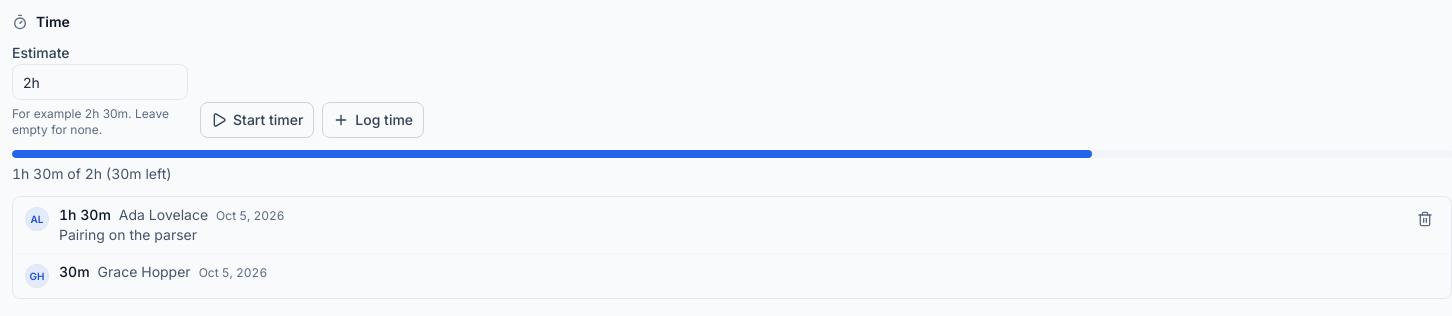
Test: TaskTimeSection › rejects an estimate that is not a duration
Replace the text in the field labelled "Estimate" with "soon" at (100, 82), box x1=12 y1=64 x2=188 y2=100
Then press Enter
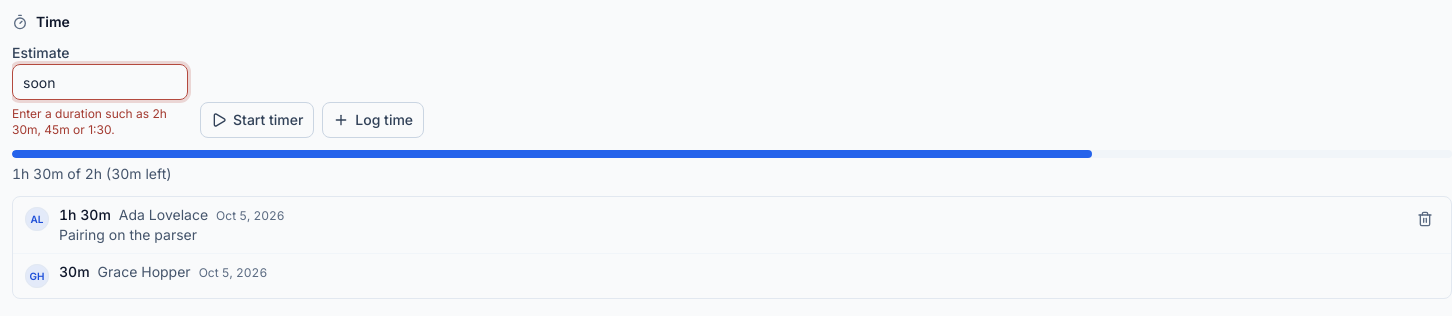
Now the text "Enter a duration such as 2h 30m, 45m or 1:30." is shown, box x1=12 y1=106 x2=188 y2=138
